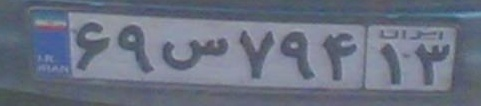character: (159, 24, 231, 77), (113, 17, 158, 80), (234, 24, 278, 85), (278, 23, 320, 86), (319, 26, 362, 86), (74, 18, 112, 77), (413, 40, 453, 89), (376, 42, 409, 90)
